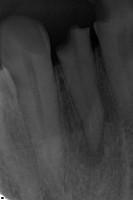Furcation Involvement: (77, 132, 105, 169)
